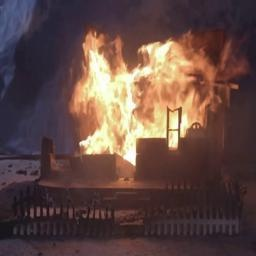fire: (73, 26, 231, 148)
